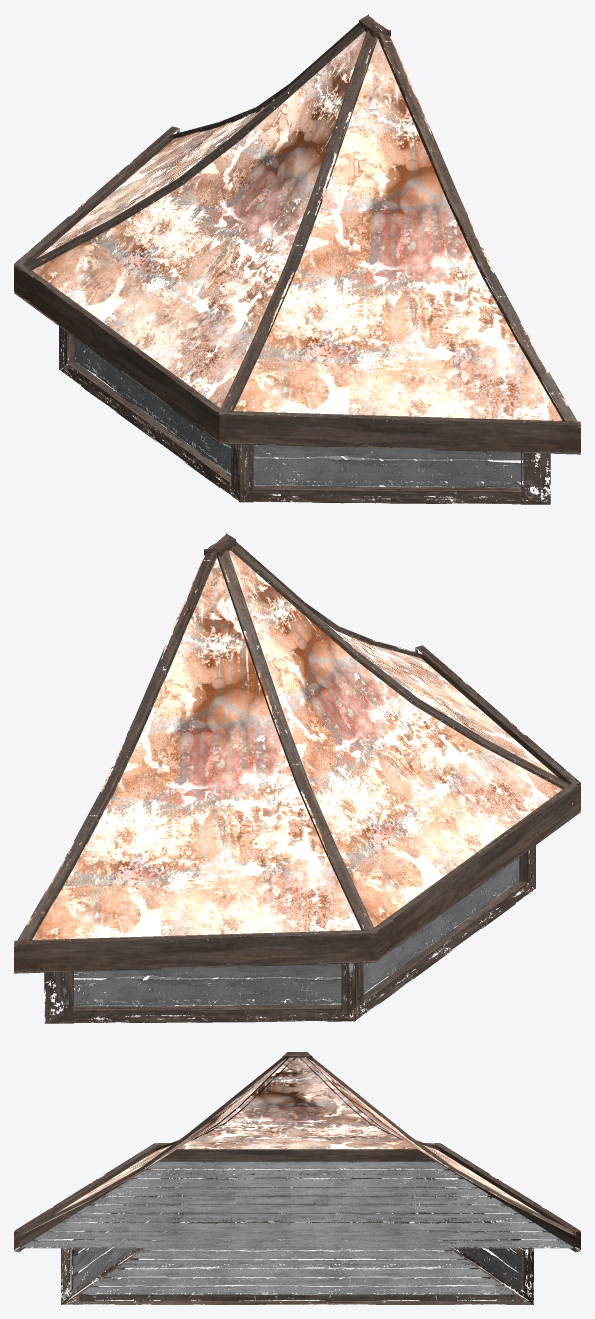
File: SM_porch_roof_01.fbx
3 views of the same model, one above another, from view 1: azimuth 30°, elevation 25°; view 2: azimuth 150°, elevation 25°; view 3: azimuth 270°, elevation 25° (orthographic). The views are drawn at different scales.
Parts seen in each view (by area): view 1: SM_porch_roof_01_LOD0; view 2: SM_porch_roof_01_LOD0; view 3: SM_porch_roof_01_LOD0.
Part boxes in pixels (x1,y1,x2,y2): SM_porch_roof_01_LOD0: (14, 14, 580, 504); SM_porch_roof_01_LOD0: (14, 533, 580, 1023); SM_porch_roof_01_LOD0: (14, 1052, 580, 1304).
Size of the model in its own units: 98.02 by 264 by 127.
3 materials, 3 textured.
